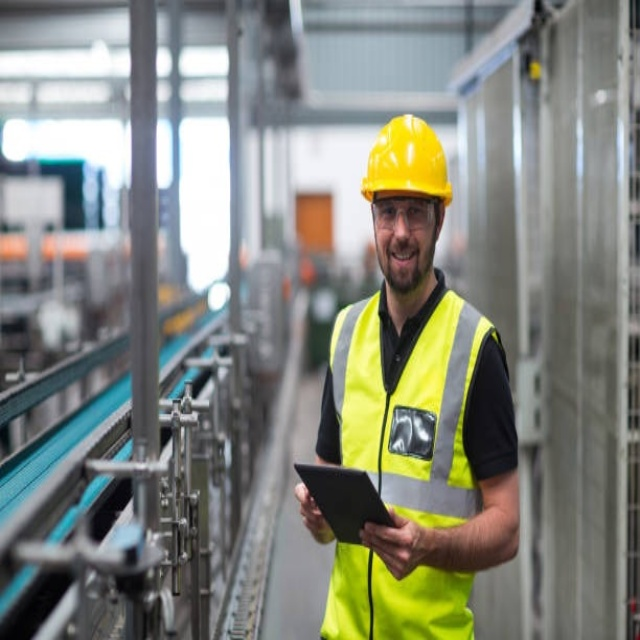Gafas: (371, 196, 436, 234)
Sin_guantes: (358, 504, 431, 582), (295, 479, 337, 546)
Sin_mascara: (384, 240, 420, 276)
